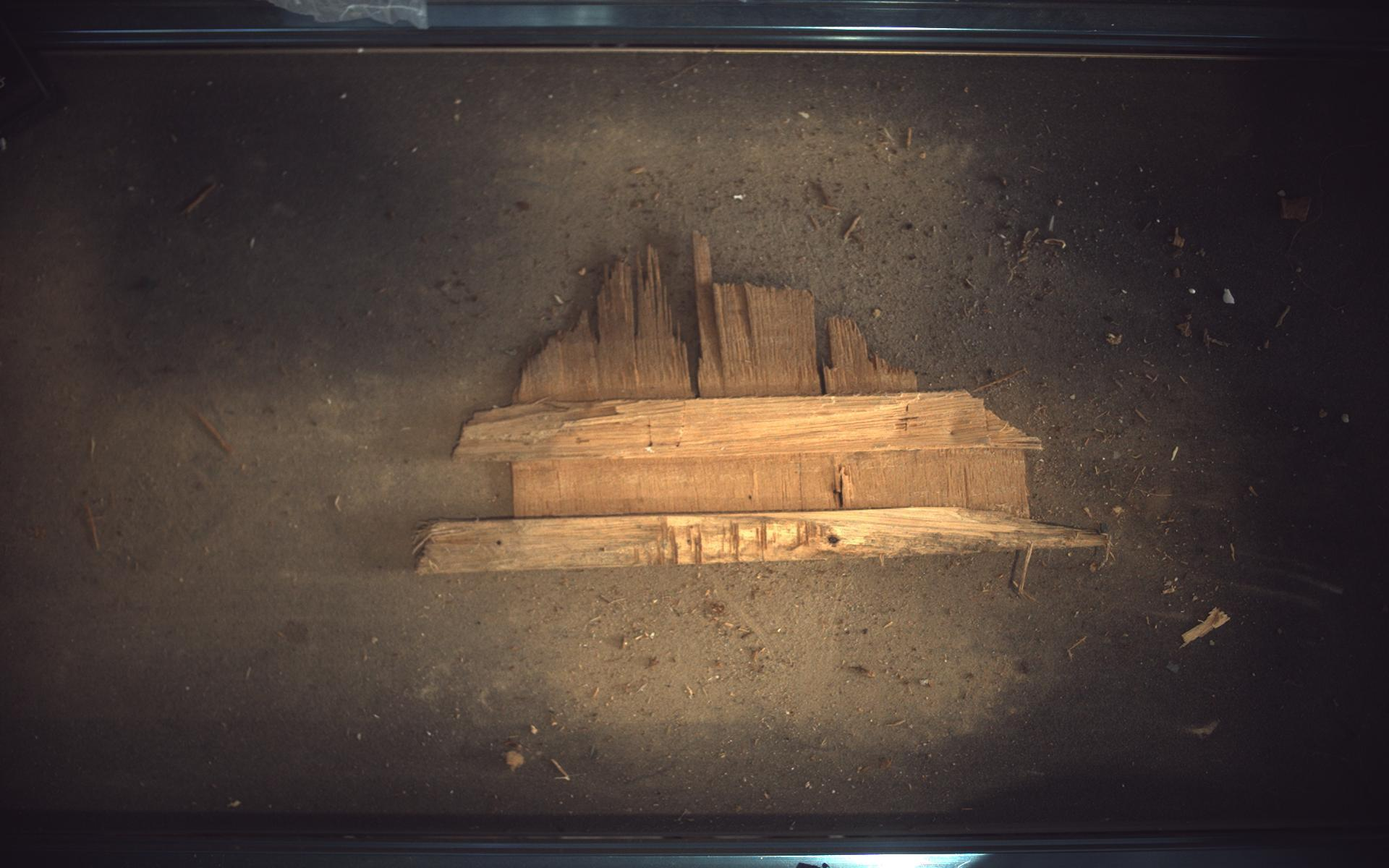wood: (417, 233, 1110, 591)
